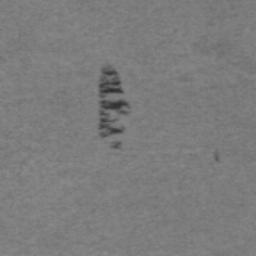Secondary rust skin: (99, 65, 130, 150)
